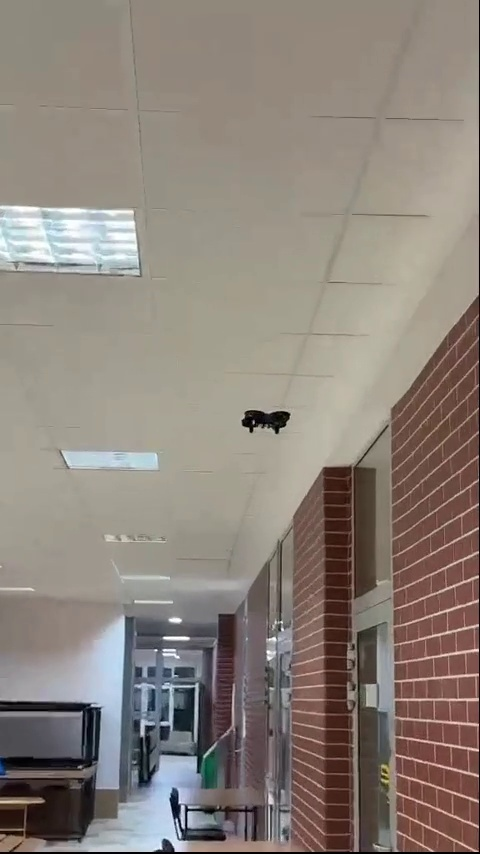drone: (241, 405, 289, 432)
